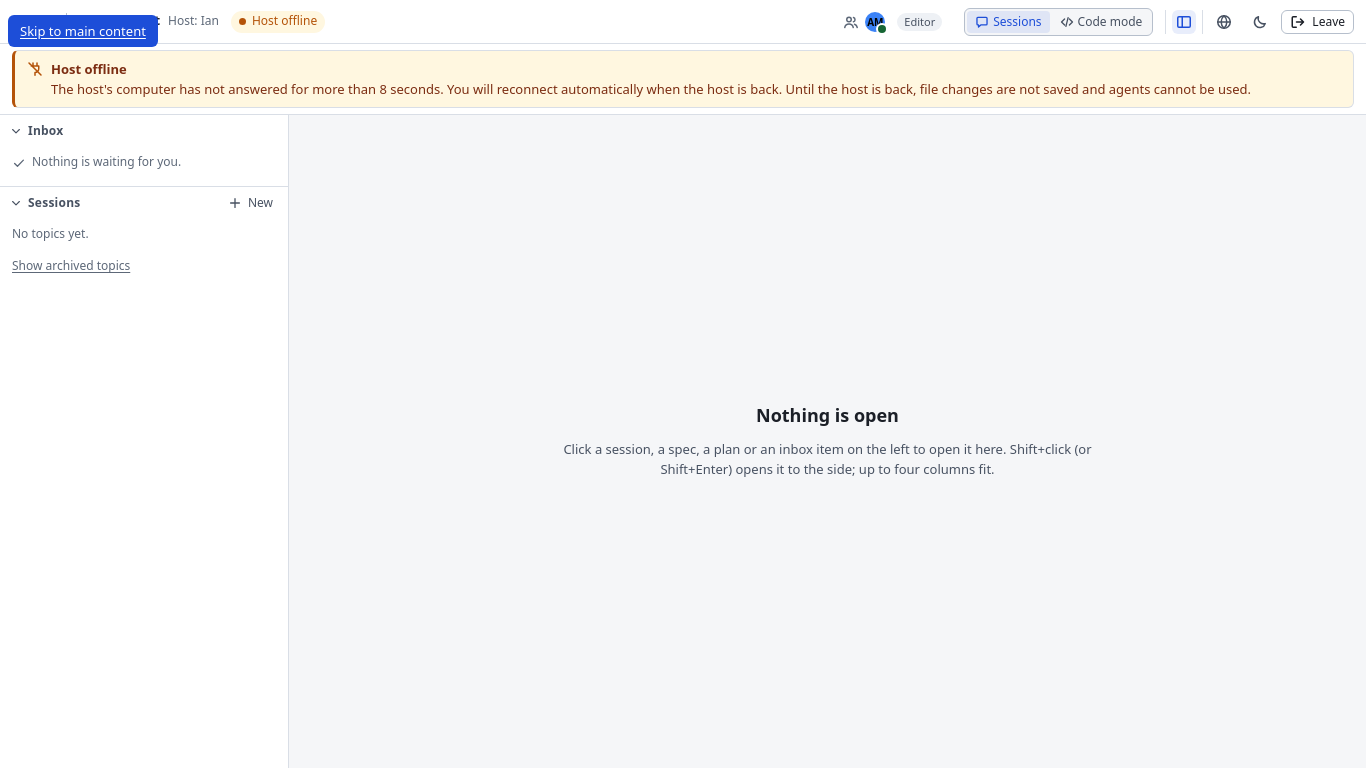
Test case: connection states in the UI › within 10 seconds of the host disconnecting, the interface of every guest shows offline — the web UI shows "Host offline" without freezing
Expected: the heading "class-project" is shown, [79, 12, 160, 29]
Expected: the message with test id "host-offline-banner" shows "Host offline", [51, 60, 127, 78]
Click the button "Inbox".
click(46, 130)  # box [4, 118, 282, 144]
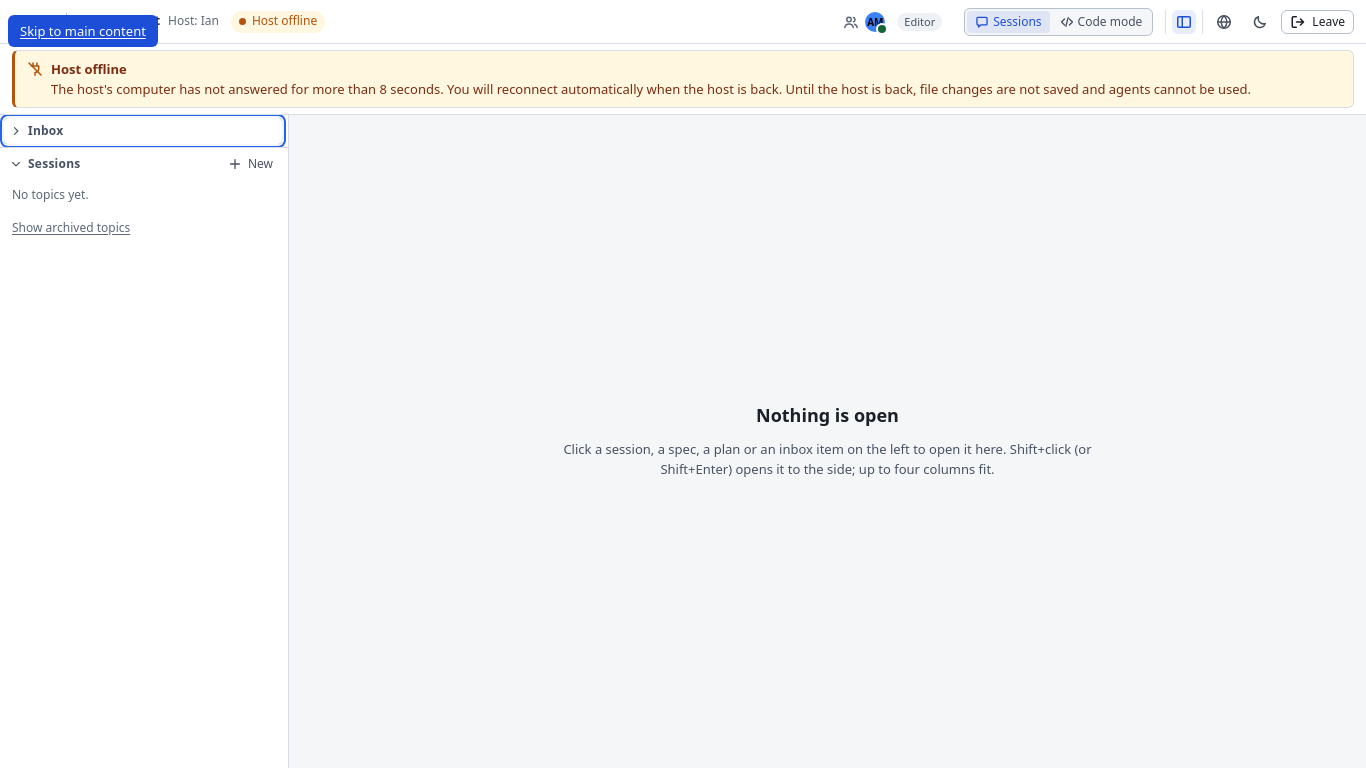
Expected: the button "Leave" is enabled, [1281, 10, 1354, 34]
Result: the button "Inbox" is collapsed at [4, 118, 282, 144]
